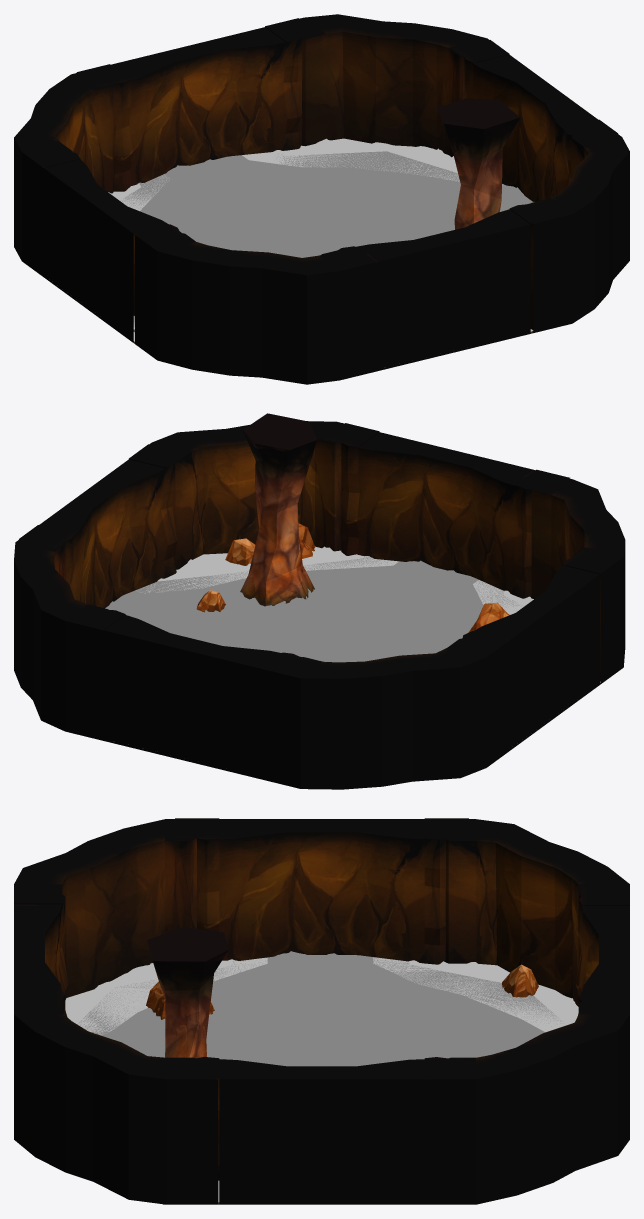
File: Dungeon_062_SpecialRoom_001.fbx
3 renders of one model, top to bottom at view 1: azimuth 30°, elevation 25°; view 2: azimuth 150°, elevation 25°; view 3: azimuth 270°, elevation 25°, orthographic. The views are drawn at different scales.
Visible parts, largest first — view 1: Dun_062_StartRoom_001_wall, Dun_062_Door_002 (×4), Dun_062_StartRoom_001_Nav, Dungeon_062_Object_04_Pillar, Dun_062_StartRoom_001_shadow; view 2: Dun_062_Door_002 (×4), Dun_062_StartRoom_001_wall, Dun_062_StartRoom_001_Nav, Dungeon_062_Object_04_Pillar, Dun_062_StartRoom_001_shadow, Dun_062_Object_100, Dungeon_062_Object_03_Rock; view 3: Dun_062_StartRoom_001_wall, Dun_062_Door_002 (×4), Dun_062_StartRoom_001_Nav, Dun_062_StartRoom_001_shadow, Dungeon_062_Object_04_Pillar, Dun_062_Object_100, Dungeon_062_Object_03_Rock.
Part boxes in pixels (x1=…): Dun_062_StartRoom_001_wall: x1=14, y1=14, x2=629, y2=384; Dun_062_Door_002 (×4): x1=25, y1=18, x2=617, y2=370; Dun_062_StartRoom_001_Nav: x1=120, y1=151, x2=533, y2=326; Dungeon_062_Object_04_Pillar: x1=437, y1=98, x2=519, y2=229; Dun_062_StartRoom_001_shadow: x1=108, y1=138, x2=533, y2=341; Dun_062_Door_002 (×4): x1=19, y1=423, x2=618, y2=779; Dun_062_StartRoom_001_wall: x1=14, y1=421, x2=625, y2=789; Dun_062_StartRoom_001_Nav: x1=105, y1=556, x2=523, y2=662; Dungeon_062_Object_04_Pillar: x1=240, y1=413, x2=316, y2=606; Dun_062_StartRoom_001_shadow: x1=134, y1=546, x2=600, y2=682; Dun_062_Object_100: x1=225, y1=523, x2=315, y2=565; Dungeon_062_Object_03_Rock: x1=468, y1=603, x2=509, y2=632; Dun_062_StartRoom_001_wall: x1=14, y1=819, x2=629, y2=1204; Dun_062_Door_002 (×4): x1=14, y1=818, x2=629, y2=1204; Dun_062_StartRoom_001_Nav: x1=78, y1=951, x2=561, y2=1066; Dun_062_StartRoom_001_shadow: x1=65, y1=957, x2=578, y2=1202; Dungeon_062_Object_04_Pillar: x1=147, y1=927, x2=228, y2=1058; Dun_062_Object_100: x1=502, y1=964, x2=538, y2=997; Dungeon_062_Object_03_Rock: x1=146, y1=981, x2=214, y2=1019.
Bounding box in the file's own units: 9 × 2.96 × 9.
